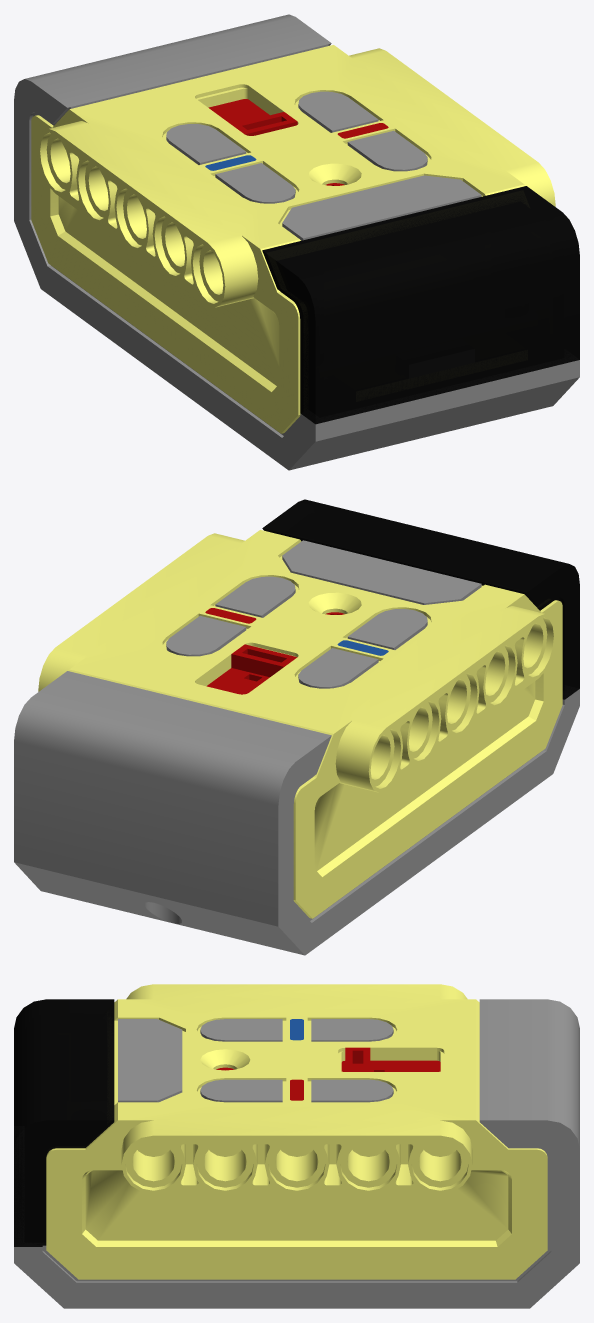
3 renders of one model, top to bottom at view 1: azimuth 30°, elevation 25°; view 2: azimuth 150°, elevation 25°; view 3: azimuth 270°, elevation 25°, orthographic. The views are drawn at different scales.
Parts seen in each view (by area): view 1: 76607p01.dat, 11235.dat (×2), 76609.dat, 76610.dat (×4), 11236.dat, 11237.dat; view 2: 76607p01.dat, 11235.dat (×2), 76609.dat, 76610.dat (×4), 11236.dat, 11237.dat; view 3: 76607p01.dat, 11235.dat (×2), 76609.dat, 76610.dat (×4), 11236.dat, 76608.dat, 11237.dat.
Boxes of the visible parts, x1,y1,x2,y2 form: 76607p01.dat: (31, 45, 555, 433); 11235.dat (×2): (14, 14, 579, 424); 76609.dat: (14, 204, 579, 470); 76610.dat (×4): (166, 91, 427, 203); 11236.dat: (282, 175, 481, 240); 11237.dat: (208, 99, 344, 185); 76607p01.dat: (38, 530, 562, 918); 11235.dat (×2): (14, 499, 579, 909); 76609.dat: (14, 689, 579, 955); 76610.dat (×4): (166, 576, 427, 688); 11236.dat: (282, 540, 481, 604); 11237.dat: (206, 612, 344, 694); 76607p01.dat: (46, 984, 547, 1279); 11235.dat (×2): (14, 999, 579, 1246); 76609.dat: (14, 1245, 579, 1308); 76610.dat (×4): (200, 1019, 393, 1102); 11236.dat: (118, 1019, 182, 1102); 76608.dat: (137, 1142, 456, 1156); 11237.dat: (216, 1047, 440, 1071).
Bounding box in the file's own units: 0.04 × 0.0232 × 0.0632.
